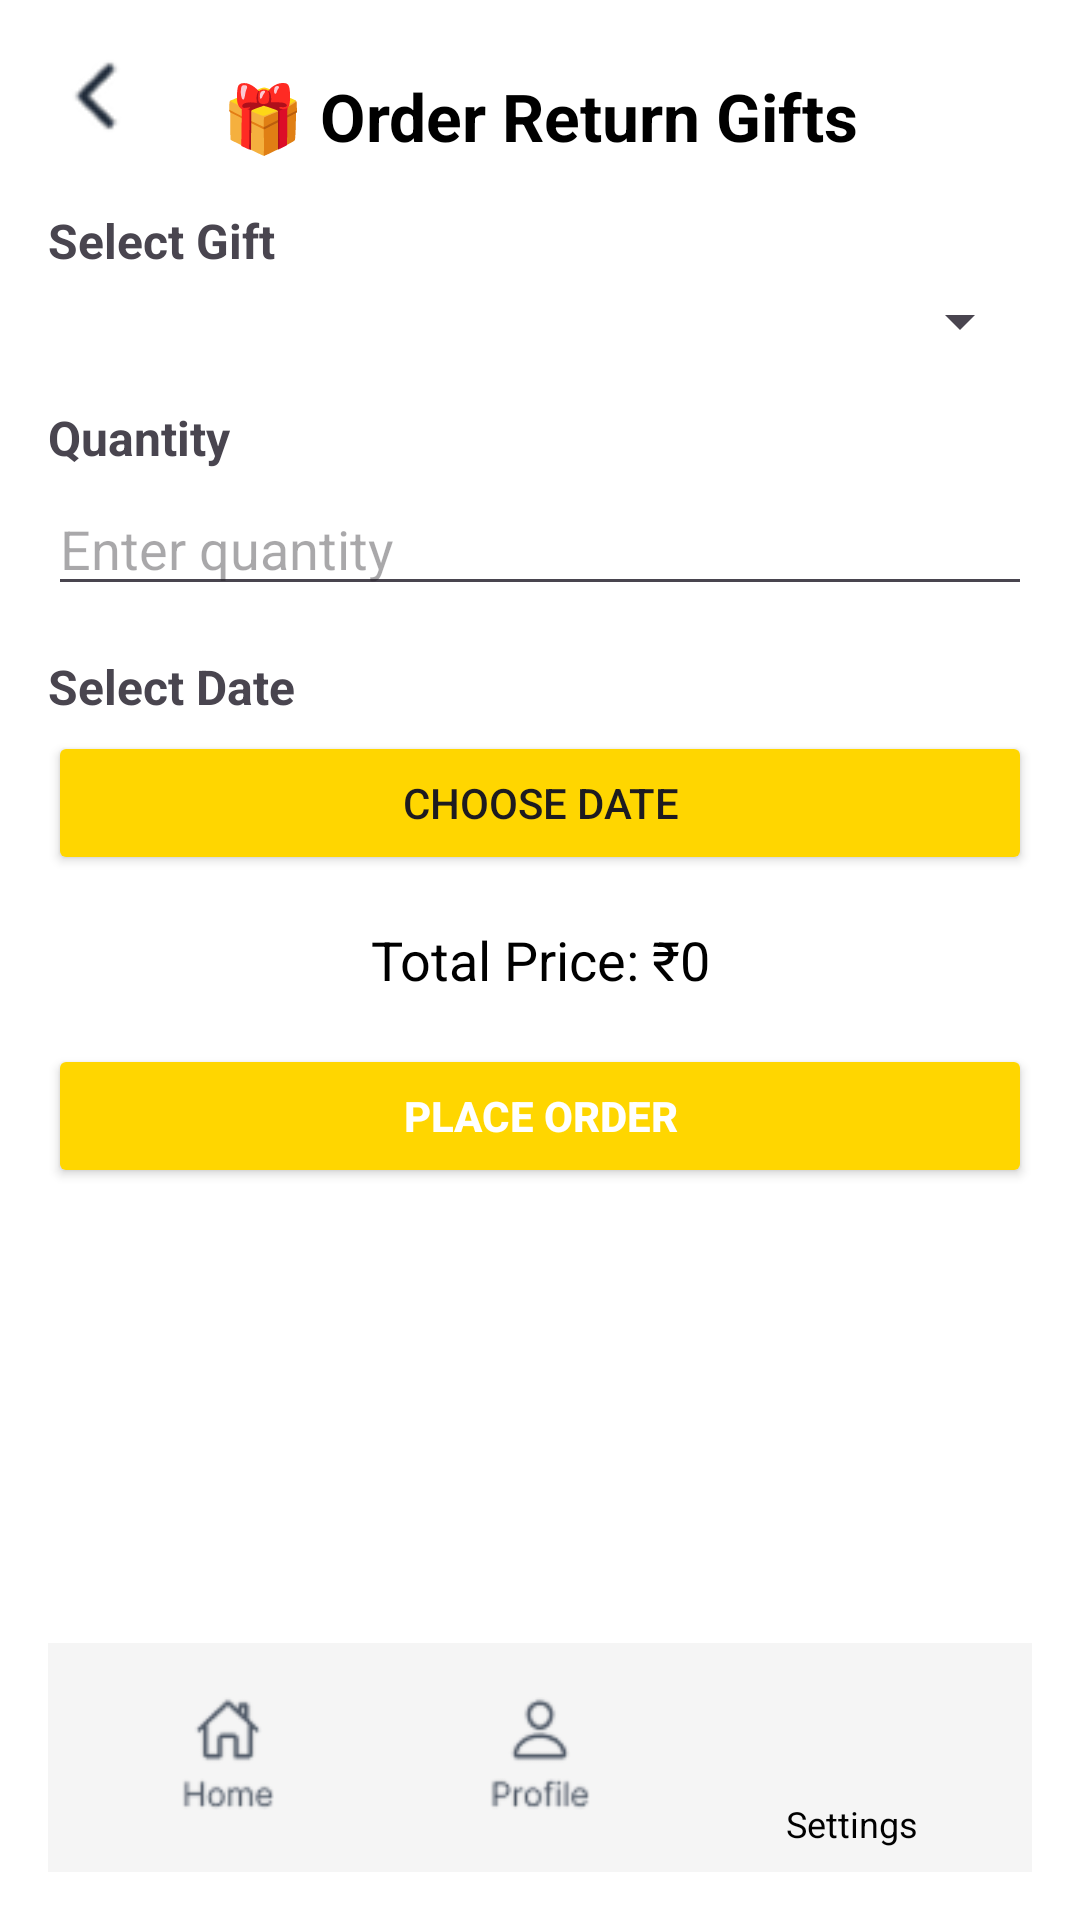

Where icons sit on this 1080 x 1920 app screen, as (x1, y1, x2, y2):
Back: (75, 62, 117, 130)
